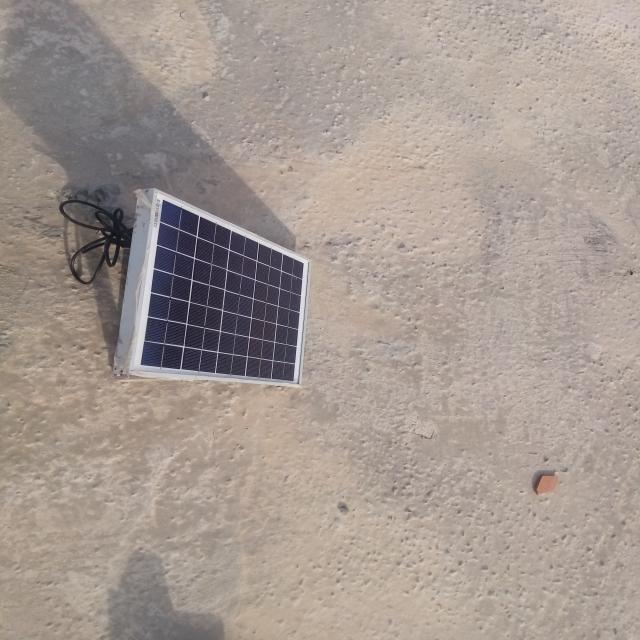no faulty: (129, 190, 310, 386)
